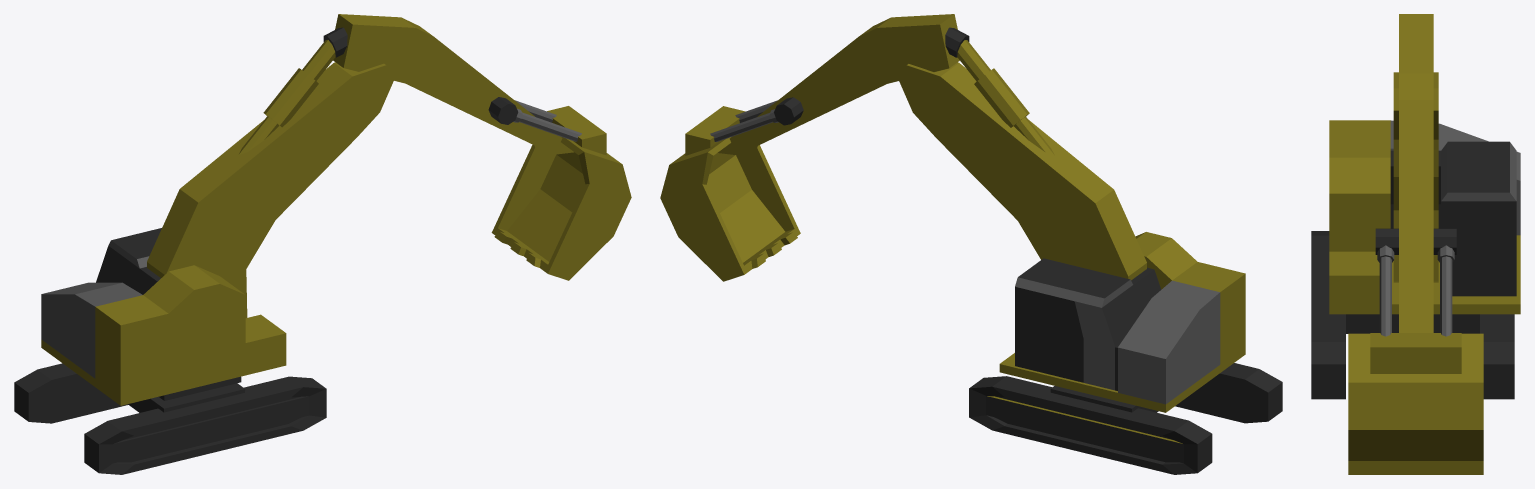
File: excavator.fbx
3 renders of one model, left to right at view 1: azimuth 30°, elevation 25°; view 2: azimuth 150°, elevation 25°; view 3: azimuth 270°, elevation 25°, orthographic. The views are drawn at different scales.
Parts seen in each view (by area): view 1: Cube; view 2: Cube; view 3: Cube.
Part boxes in pixels (x1=…): Cube: x1=14, y1=14, x2=631, y2=474; Cube: x1=660, y1=14, x2=1282, y2=474; Cube: x1=1311, y1=14, x2=1520, y2=474.
Bounding box in the file's own units: 1425 × 890 × 392.
